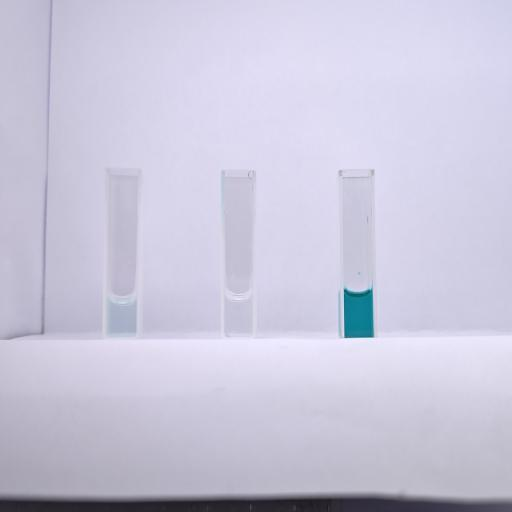cuvette: (101, 164, 144, 342), (336, 166, 377, 339), (219, 168, 258, 340)
liquid: (344, 288, 374, 335), (108, 294, 136, 338), (225, 293, 253, 336)
